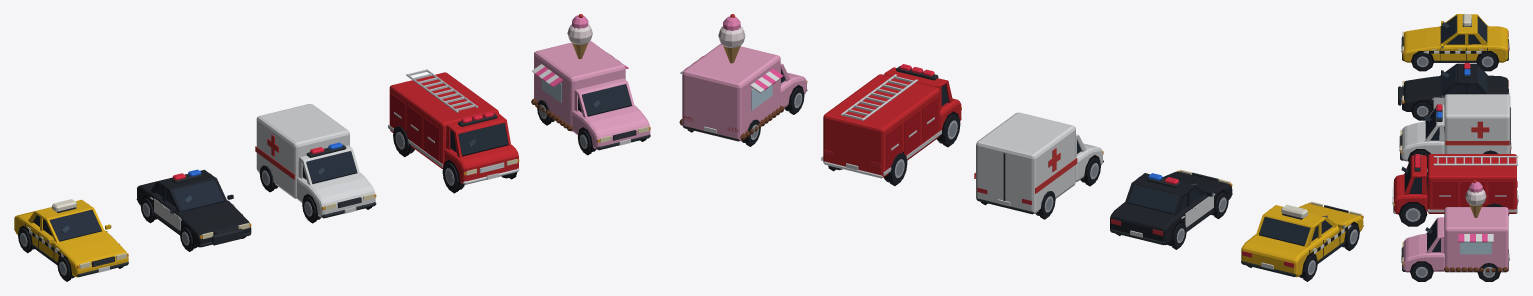
Rendered from cars-special.glb.
3 renders of one model, left to right at view 1: azimuth 30°, elevation 25°; view 2: azimuth 150°, elevation 25°; view 3: azimuth 270°, elevation 25°, orthographic. The views are drawn at different scales.
Parts seen in each view (by area): view 1: firetruck_mesh, icecream_mesh, ambulance_mesh, police_mesh, taxi_mesh; view 2: firetruck_mesh, icecream_mesh, ambulance_mesh, taxi_mesh, police_mesh; view 3: icecream_mesh, firetruck_mesh, ambulance_mesh, taxi_mesh, police_mesh.
Boxes of the visible parts, x1,y1,x2,y2 form: firetruck_mesh: (388,69,519,193); icecream_mesh: (531,14,650,155); ambulance_mesh: (255,104,376,223); police_mesh: (136,169,251,251); taxi_mesh: (14,199,128,281); firetruck_mesh: (821,64,961,185); icecream_mesh: (679,14,807,146); ambulance_mesh: (974,112,1103,219); taxi_mesh: (1241,201,1363,281); police_mesh: (1110,169,1232,249); icecream_mesh: (1401,180,1509,281); firetruck_mesh: (1392,154,1518,226); ambulance_mesh: (1399,94,1511,168); taxi_mesh: (1401,14,1509,71); police_mesh: (1398,63,1509,120).
Size of the model in its own units: 19.25 by 3.42 by 4.32.
